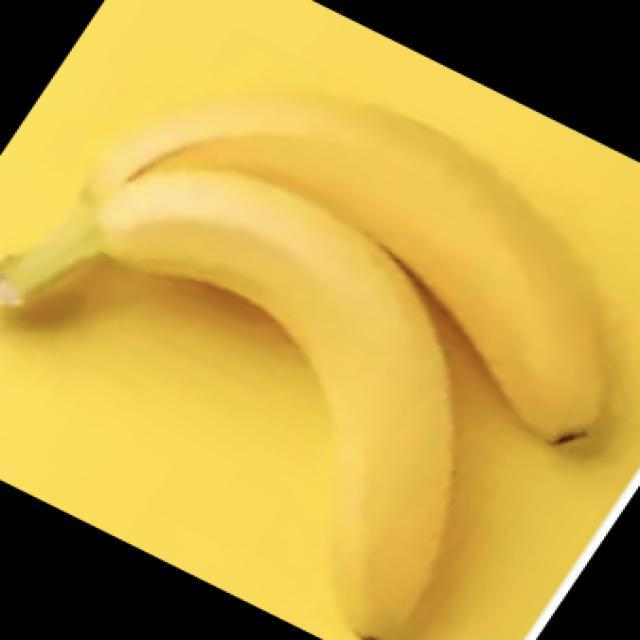Banana: (9, 88, 612, 630)
